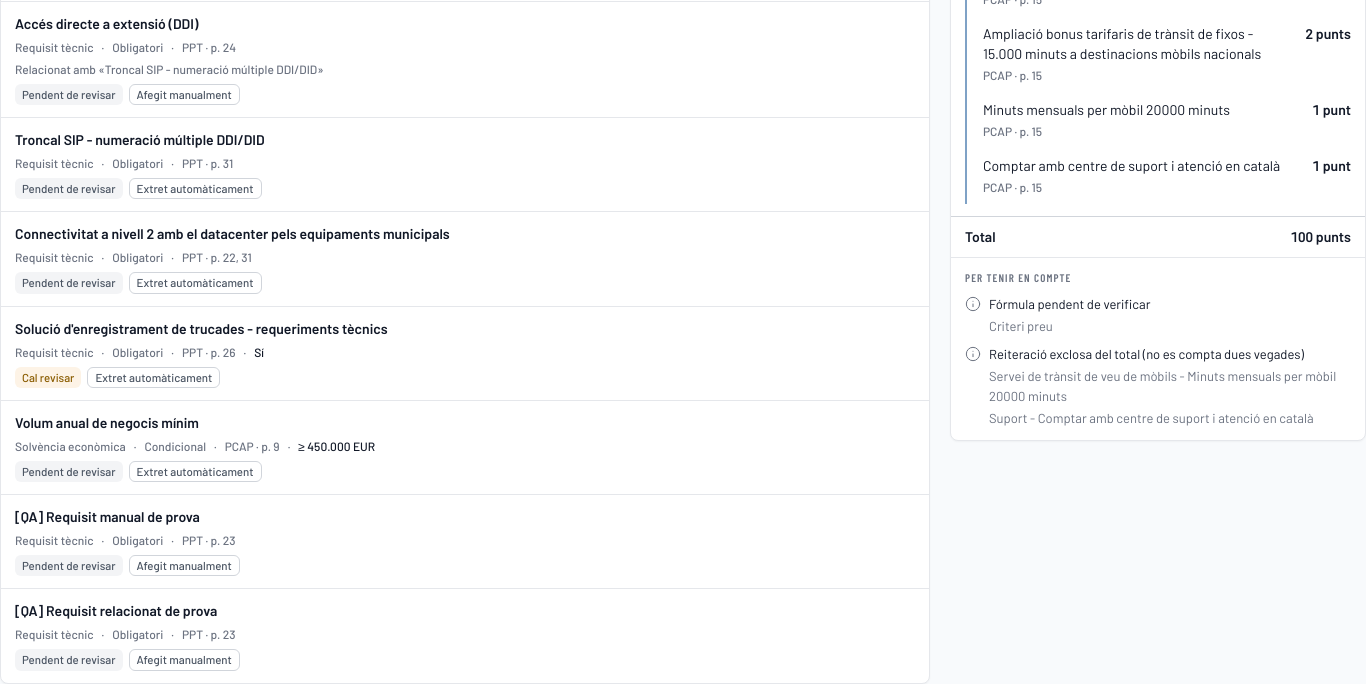
Test: Relacions entre requisits › el cercador exclou el requisit actual i no ensenya identificadors
(page scrolled)
Click the button that starts with "[QA] Requisit manual de prova" at (107,517), box [1,495,929,588]
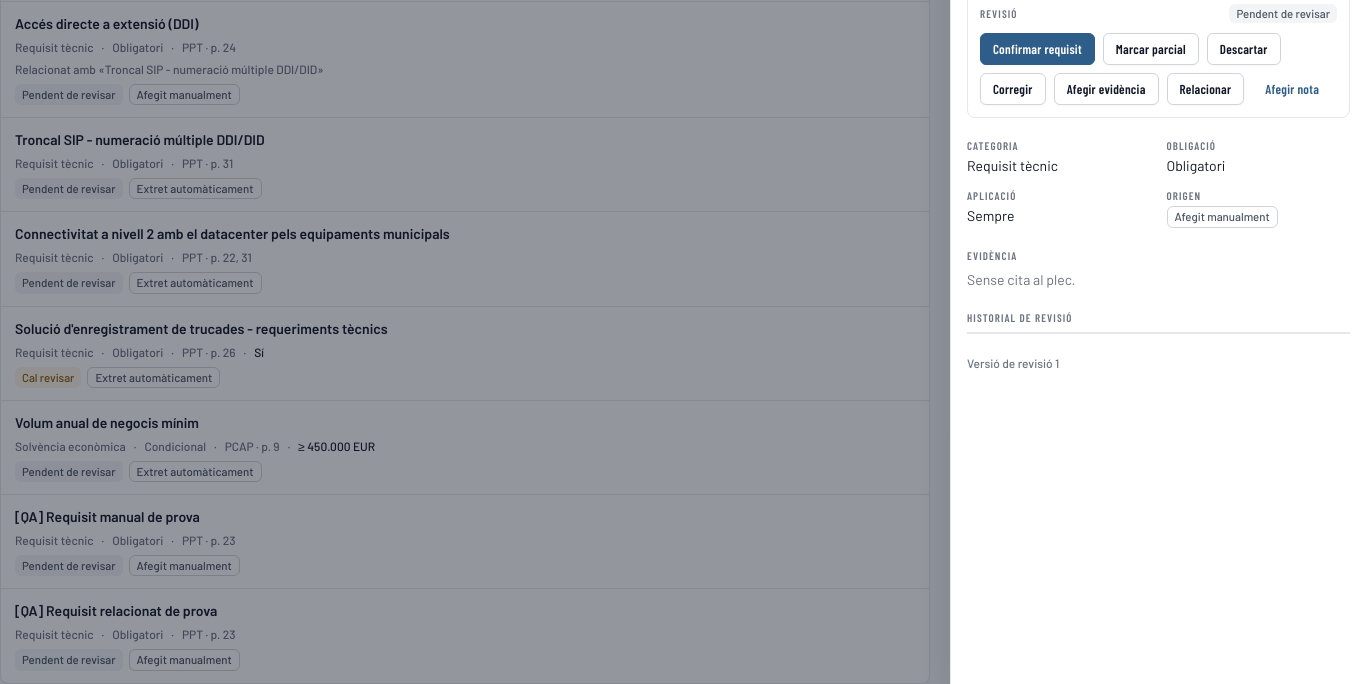
Click the button "Relacionar" at (1205,89), box [1167,73,1244,105]
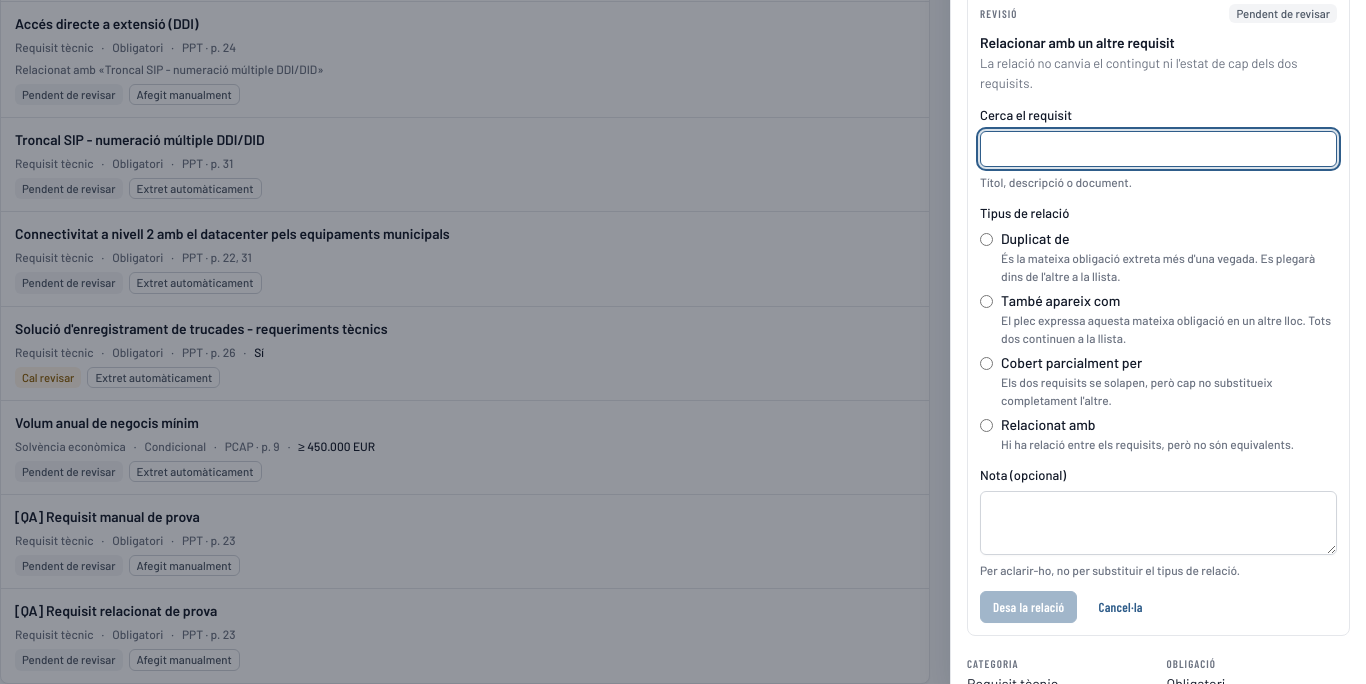
Type "qa" into the search field labelled "Cerca el requisit Títol, descripció o document." at (1158,149), box [980,131,1337,167]
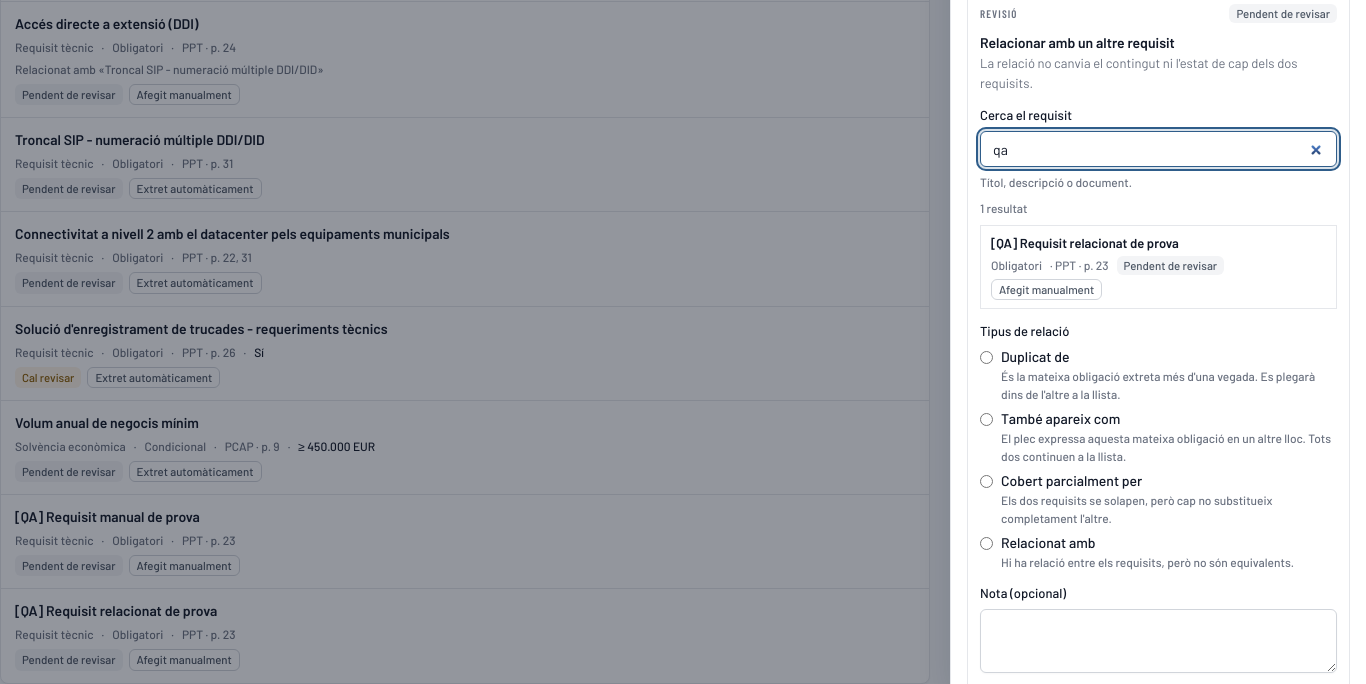
Expected: the text "Afegit manualment" is shown, [991,279,1102,300]
Expected: the text "Pendent de revisar" below "1 resultat" is shown, [1124,258,1217,272]
